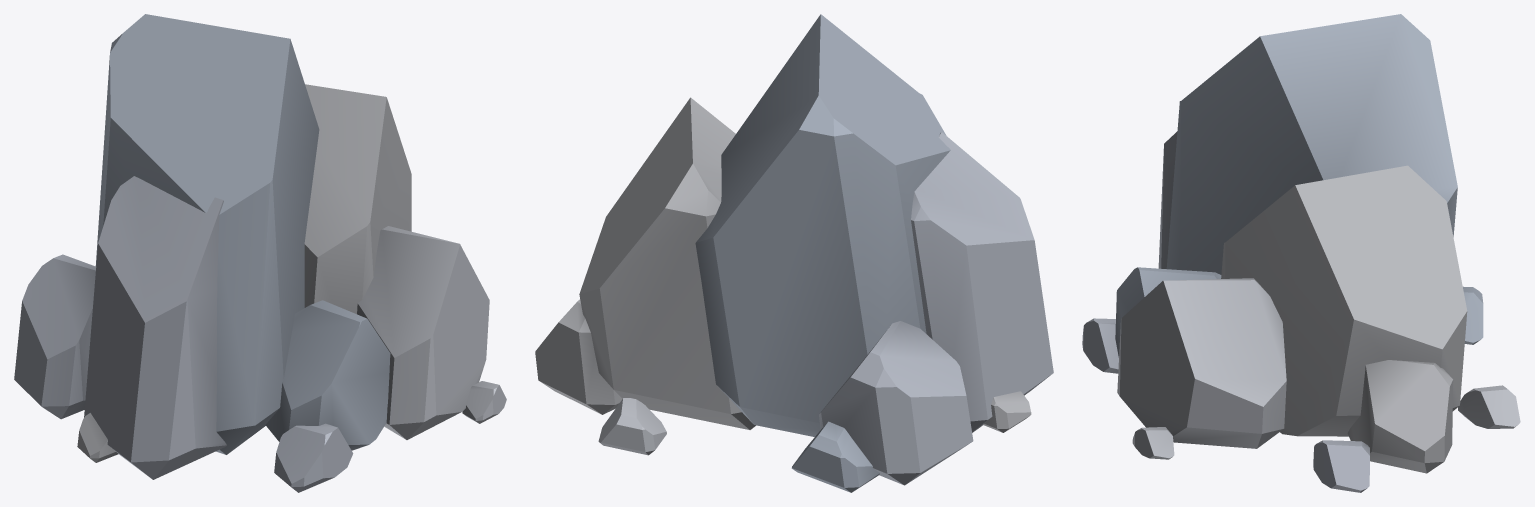
Rendered from escarpment-2.glb.
3 renders of one model, left to right at view 1: azimuth 30°, elevation 25°; view 2: azimuth 150°, elevation 25°; view 3: azimuth 270°, elevation 25°, orthographic. The views are drawn at different scales.
Parts seen in each view (by area): view 1: Cube, Cube.002, Cube.003, Cube.001, Cube.004, Cube.006, Cube.011, Cube.012, Cube.010; view 2: Cube, Cube.001, Cube.002, Cube.006, Cube.005, Cube.009, Cube.008, Cube.010; view 3: Cube, Cube.001, Cube.003, Cube.005, Cube.007, Cube.008, Cube.004, Cube.011, Cube.002, Cube.012, Cube.009.
Part boxes in pixels (x1,y1,x2,y2): Cube: (95, 14, 319, 454); Cube.002: (84, 176, 226, 479); Cube.003: (357, 226, 489, 439); Cube.001: (304, 84, 411, 314); Cube.004: (265, 300, 390, 450); Cube.006: (14, 254, 96, 419); Cube.011: (274, 423, 353, 492); Cube.012: (462, 381, 506, 423); Cube.010: (77, 413, 118, 462); Cube: (695, 14, 950, 436); Cube.001: (579, 97, 755, 429); Cube.002: (911, 132, 1053, 432); Cube.006: (819, 321, 973, 485); Cube.005: (535, 299, 622, 414); Cube.009: (791, 421, 879, 492); Cube.008: (598, 398, 666, 455); Cube.010: (983, 391, 1031, 432); Cube: (1166, 14, 1457, 274); Cube.001: (1221, 165, 1467, 436); Cube.003: (1117, 278, 1286, 448); Cube.005: (1347, 360, 1453, 473); Cube.007: (1313, 440, 1369, 492); Cube.008: (1458, 385, 1520, 428); Cube.004: (1115, 267, 1221, 357); Cube.011: (1082, 318, 1118, 373); Cube.002: (1158, 131, 1177, 268); Cube.012: (1132, 427, 1174, 459); Cube.009: (1463, 286, 1483, 344).
Bounding box in the file's own units: 1.52 × 1.27 × 1.37.
